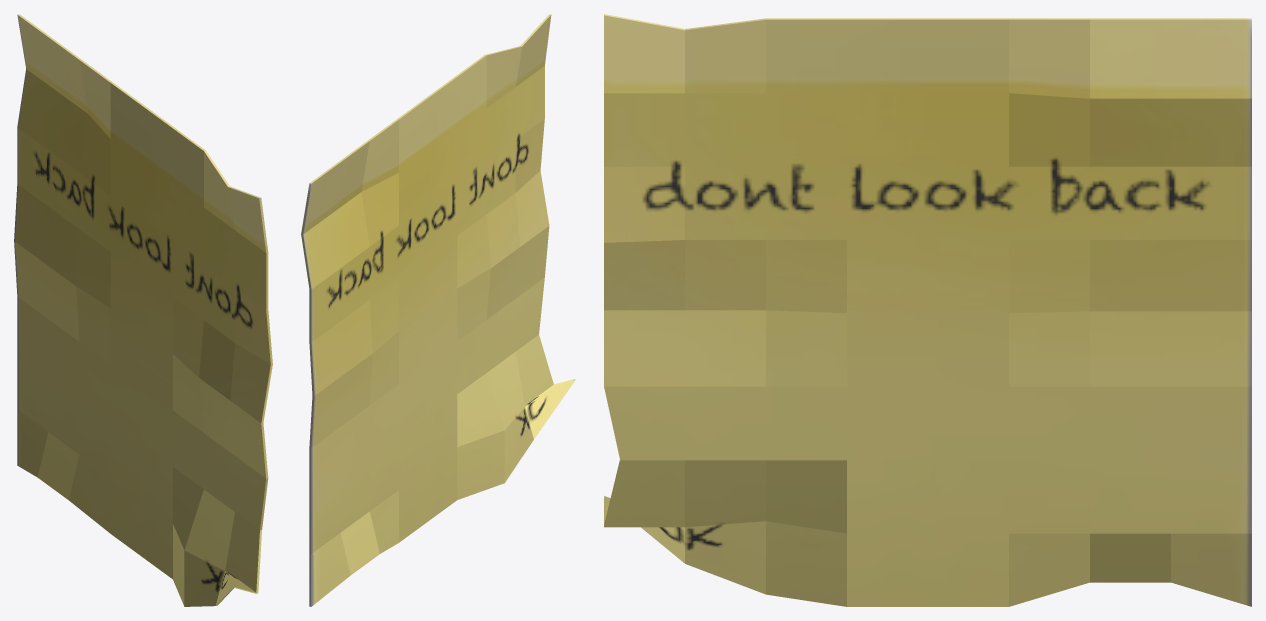
The model's file is tassg.fbx.
The picture shows the model from 3 angles, left to right: view 1: azimuth 30°, elevation 25°; view 2: azimuth 150°, elevation 25°; view 3: azimuth 270°, elevation 25°; orthographic projection. The views are drawn at different scales.
Parts seen in each view (by area): view 1: Plane; view 2: Plane; view 3: Plane.
Boxes of the visible parts, left/top/right/bottom form: Plane: left=14, top=14, right=272, bottom=606; Plane: left=301, top=14, right=575, bottom=606; Plane: left=604, top=14, right=1251, bottom=606.
Size of the model in its own units: 20.44 by 200 by 200.
Materials: 1 (1 with a texture image).
